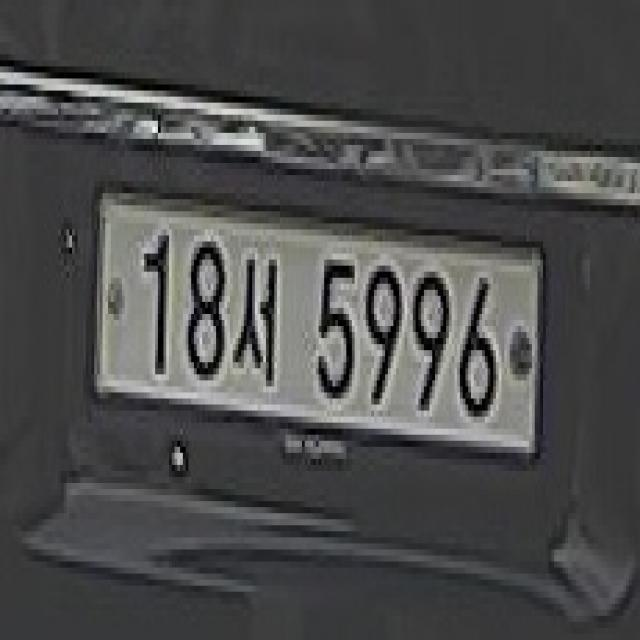1: (136, 218, 174, 386)
5: (313, 248, 357, 410)
6: (457, 266, 499, 428)
8: (183, 230, 227, 392)
9: (410, 260, 452, 422), (363, 254, 404, 416)
license_plate: (86, 175, 551, 501)
seo: (233, 247, 280, 398)
